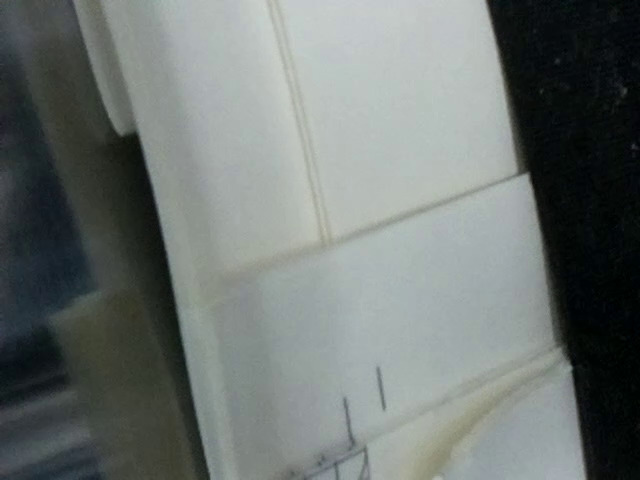not_sure: (273, 396, 375, 480)
